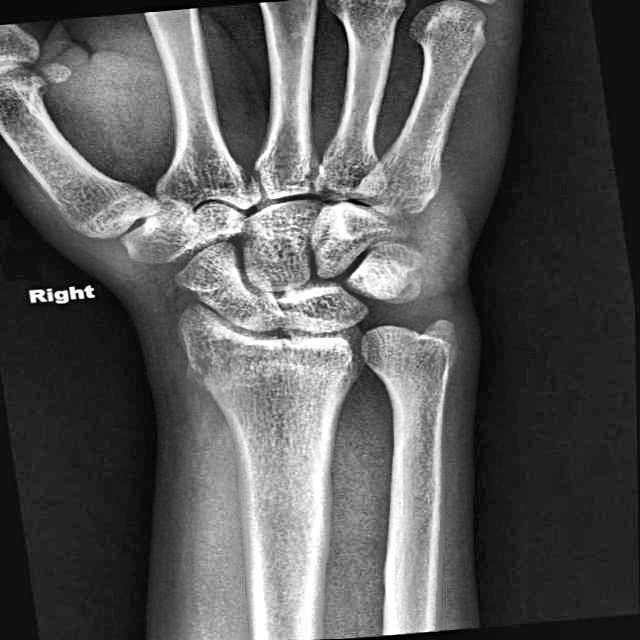Healthy: (29, 13, 544, 592)
